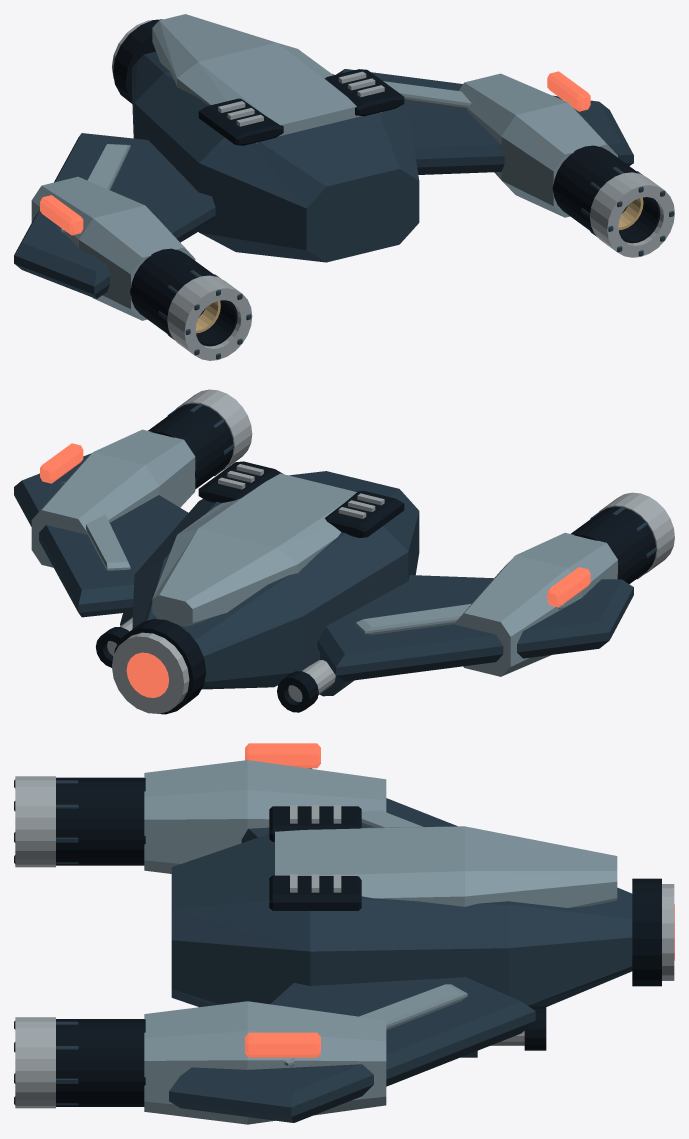
The model's file is scout.glb.
The picture shows the model from 3 angles, top to bottom: view 1: azimuth 30°, elevation 25°; view 2: azimuth 150°, elevation 25°; view 3: azimuth 270°, elevation 25°; orthographic projection. The views are drawn at different scales.
Visible parts, largest first — view 1: scout; view 2: scout; view 3: scout.
Part boxes in pixels (x1=…): scout: x1=14, y1=14, x2=674, y2=360; scout: x1=14, y1=389, x2=674, y2=714; scout: x1=14, y1=743, x2=674, y2=1124.
Bounding box in the file's own units: 2.96 × 0.6485 × 2.43.
